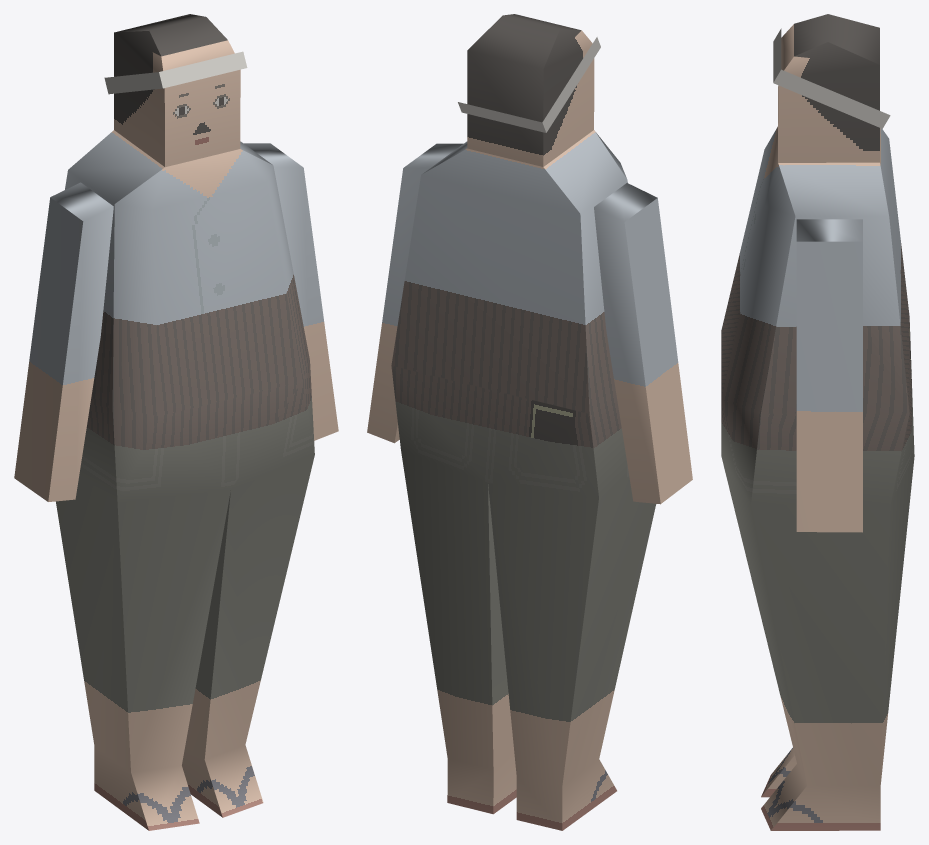
The model's file is 022a_Storekeeper.glb.
3 views of the same model, side by side, from view 1: azimuth 30°, elevation 25°; view 2: azimuth 150°, elevation 25°; view 3: azimuth 270°, elevation 25° (orthographic).
Visible parts, largest first — view 1: part_0; view 2: part_0; view 3: part_0.
Boxes of the visible parts, x1,y1,x2,y2 form: part_0: (14,14,338,830); part_0: (367,14,692,830); part_0: (721,14,914,830).
Bounding box in the file's own units: 0.6652 × 1.68 × 0.3791.
1 material, 1 textured.
